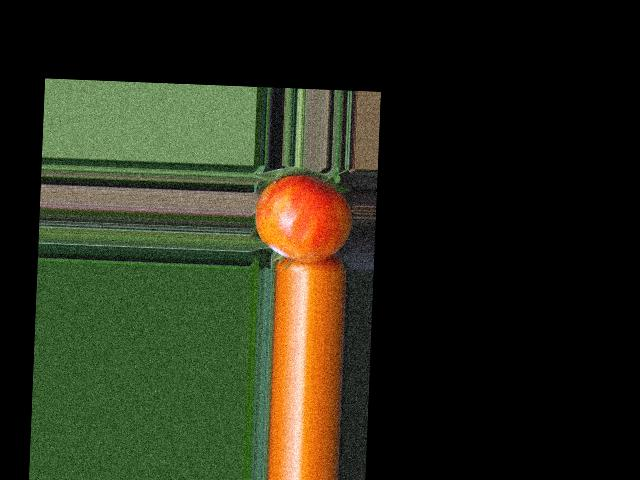tomato: (253, 173, 353, 263)
